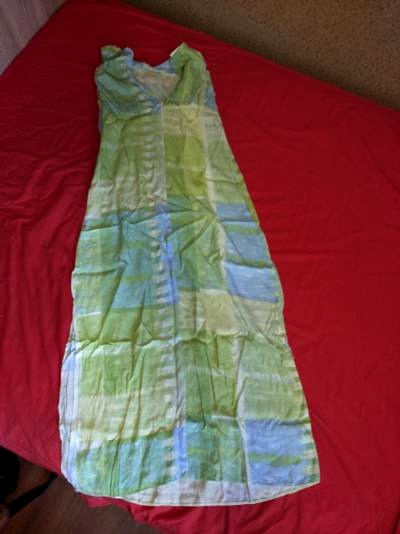Dress: (27, 26, 349, 519)
